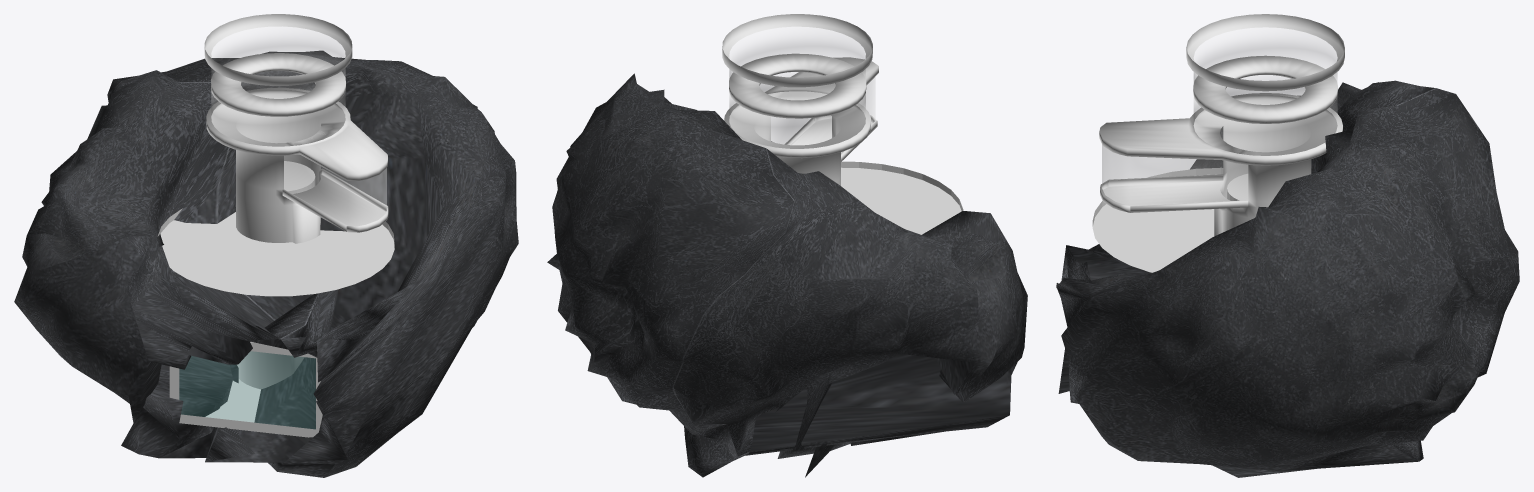
The model's file is astrocrib_test.glb.
3 renders of one model, left to right at view 1: azimuth 30°, elevation 25°; view 2: azimuth 150°, elevation 25°; view 3: azimuth 270°, elevation 25°, orthographic. The views are drawn at different scales.
Visible parts, largest first — view 1: Object_2, Cylinder, Circle, Cube, Cylinder.001; view 2: Object_2, Cylinder, Circle; view 3: Object_2, Cylinder, Circle, Cylinder.001.
Part boxes in pixels (x1,y1,x2,y2): Object_2: [14, 50, 518, 477]; Cylinder: [204, 14, 388, 389]; Circle: [157, 208, 394, 296]; Cube: [169, 342, 322, 437]; Cylinder.001: [284, 161, 315, 193]; Object_2: [547, 73, 1027, 477]; Cylinder: [722, 14, 878, 185]; Circle: [841, 161, 963, 234]; Object_2: [1056, 80, 1519, 477]; Cylinder: [1099, 14, 1344, 236]; Circle: [1092, 167, 1223, 272]; Cylinder.001: [1227, 173, 1248, 200].
Size of the model in its own units: 3.6 by 2.96 by 2.96.
Materials: 5 (1 with a texture image).
